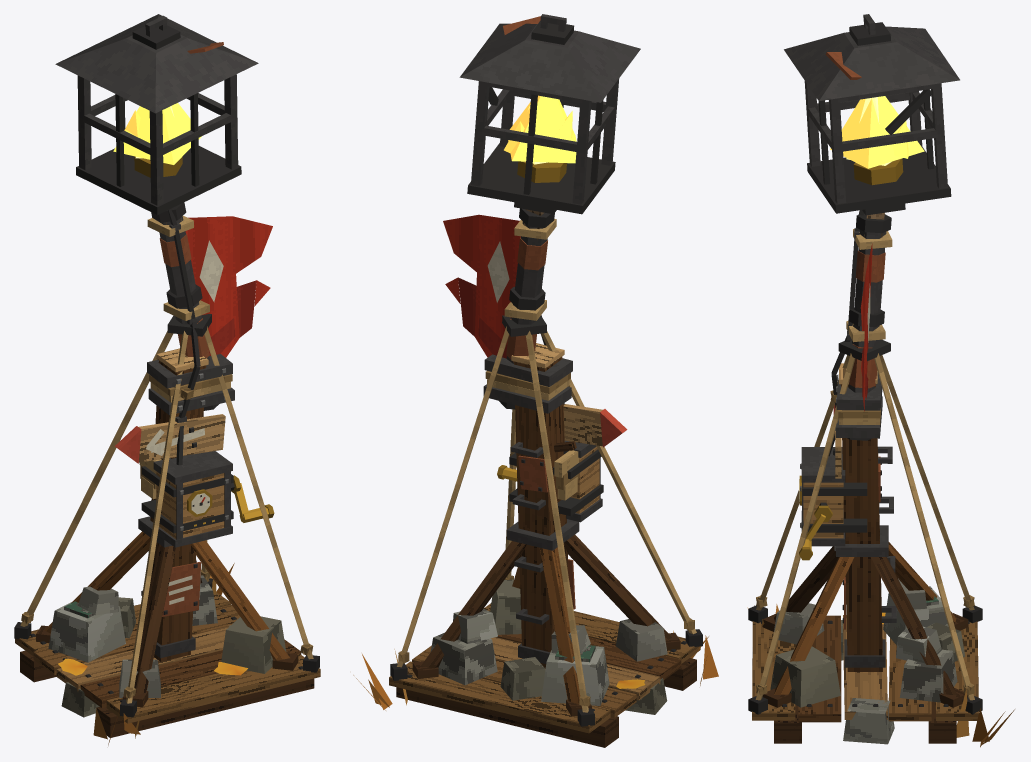
Rendered from fp_beacon.glb.
3 renders of one model, left to right at view 1: azimuth 30°, elevation 25°; view 2: azimuth 150°, elevation 25°; view 3: azimuth 270°, elevation 25°, orthographic. The views are drawn at different scales.
Parts seen in each view (by area): view 1: fp_beacon, sway_flag, deco_ropes, glow_lamp, deco_grass; view 2: fp_beacon, deco_ropes, sway_flag, glow_lamp, deco_grass; view 3: fp_beacon, deco_ropes, glow_lamp, sway_flag, deco_grass.
Boxes of the visible parts, <box> form: fp_beacon: <box>14,14,320,737</box>; sway_flag: <box>185,216,272,357</box>; deco_ropes: <box>20,326,313,703</box>; glow_lamp: <box>113,103,201,164</box>; deco_grass: <box>58,563,247,745</box>; fp_beacon: <box>389,14,702,747</box>; deco_ropes: <box>397,326,696,712</box>; sway_flag: <box>443,214,520,358</box>; glow_lamp: <box>504,95,576,164</box>; deco_grass: <box>353,630,718,710</box>; fp_beacon: <box>748,14,982,744</box>; deco_ropes: <box>755,353,974,700</box>; glow_lamp: <box>830,96,924,168</box>; sway_flag: <box>860,243,872,411</box>; deco_grass: <box>747,604,1014,747</box>.
Size of the model in its own units: 1.59 by 4.21 by 1.53.
33 materials, 24 textured.
